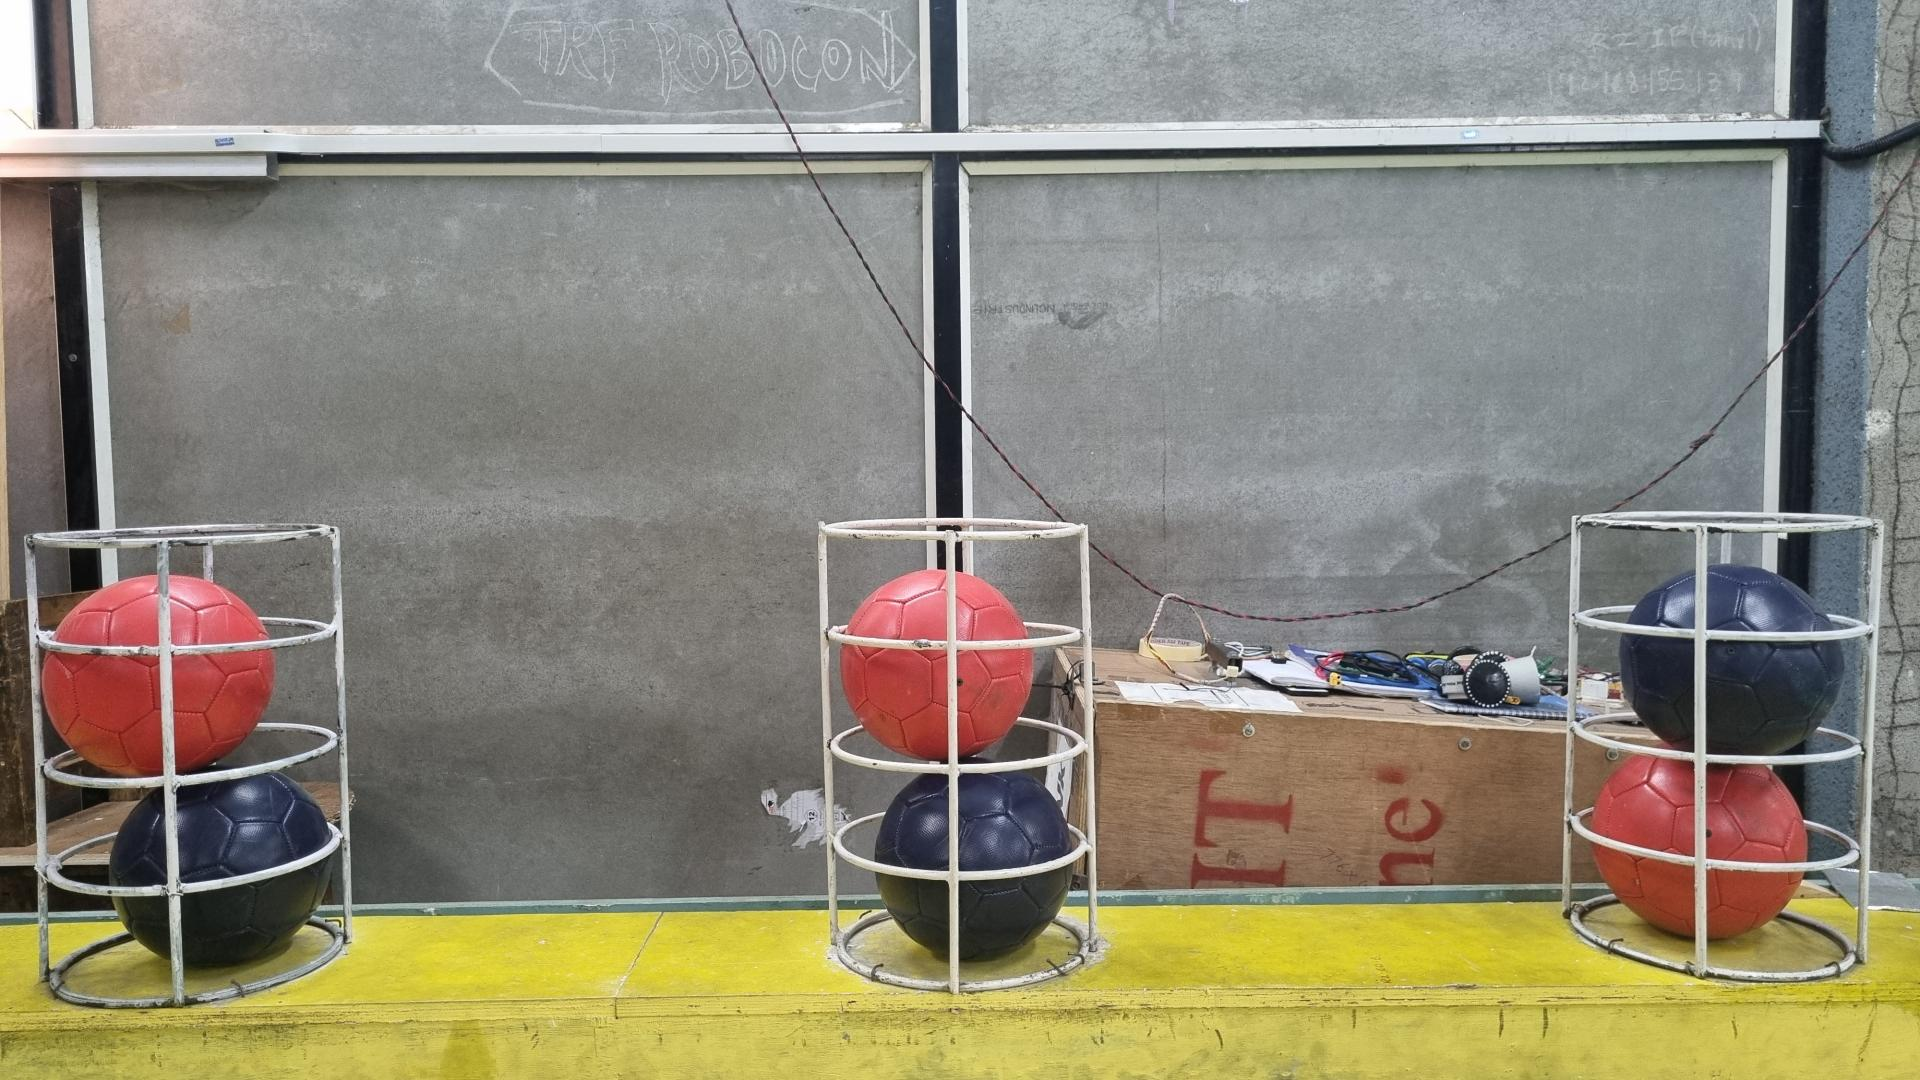dhoka: (108, 771, 330, 971), (1619, 562, 1845, 757), (874, 767, 1072, 963)
laale: (41, 574, 274, 783), (1590, 757, 1812, 940), (840, 570, 1035, 761)
